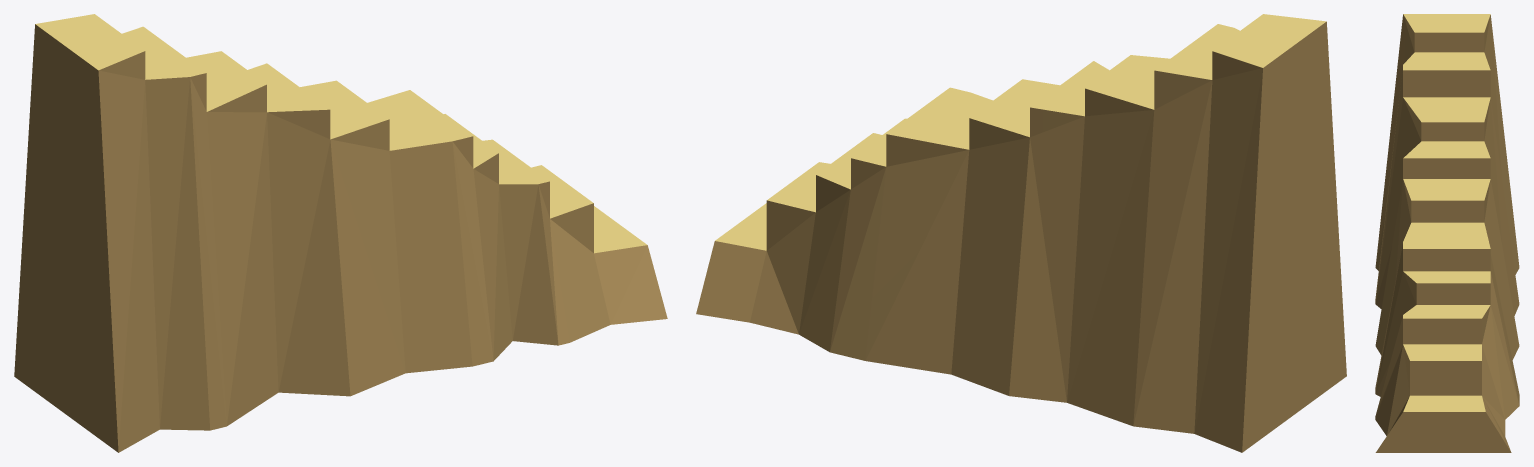
Rendered from Terrain_Modular_Tiles_Sand_Dirt_Stairs_03.fbx.
3 renders of one model, left to right at view 1: azimuth 30°, elevation 25°; view 2: azimuth 150°, elevation 25°; view 3: azimuth 270°, elevation 25°, orthographic. The views are drawn at different scales.
Visible parts, largest first — view 1: Terrain_Modular_Tiles_Sand_Dirt_Stairs_03; view 2: Terrain_Modular_Tiles_Sand_Dirt_Stairs_03; view 3: Terrain_Modular_Tiles_Sand_Dirt_Stairs_03.
Part boxes in pixels (x1=…): Terrain_Modular_Tiles_Sand_Dirt_Stairs_03: x1=14, y1=14, x2=667, y2=452; Terrain_Modular_Tiles_Sand_Dirt_Stairs_03: x1=696, y1=14, x2=1346, y2=452; Terrain_Modular_Tiles_Sand_Dirt_Stairs_03: x1=1375, y1=14, x2=1519, y2=452.
Bounding box in the file's own units: 3750 × 2400 × 1234.
